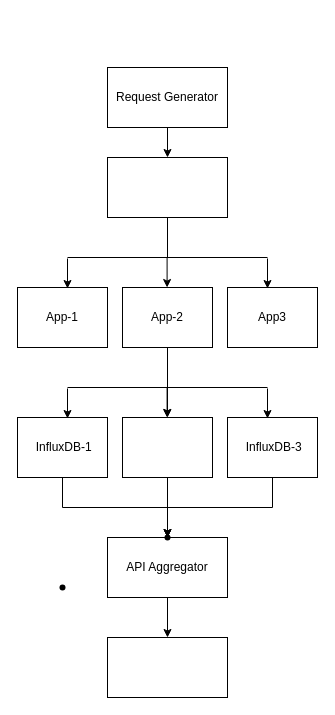
The diagram is 335 pixels wide and 715 high, and some of its shapes have lost their labels. The shapes that lost their labels are listed below. From the top down, each one's centre as x and y in pixels, then its label:
At point (167, 187): "NGINX Load Balancer".
At point (167, 447): "InfluxDB-2".
At point (167, 667): "Frontend UI".
